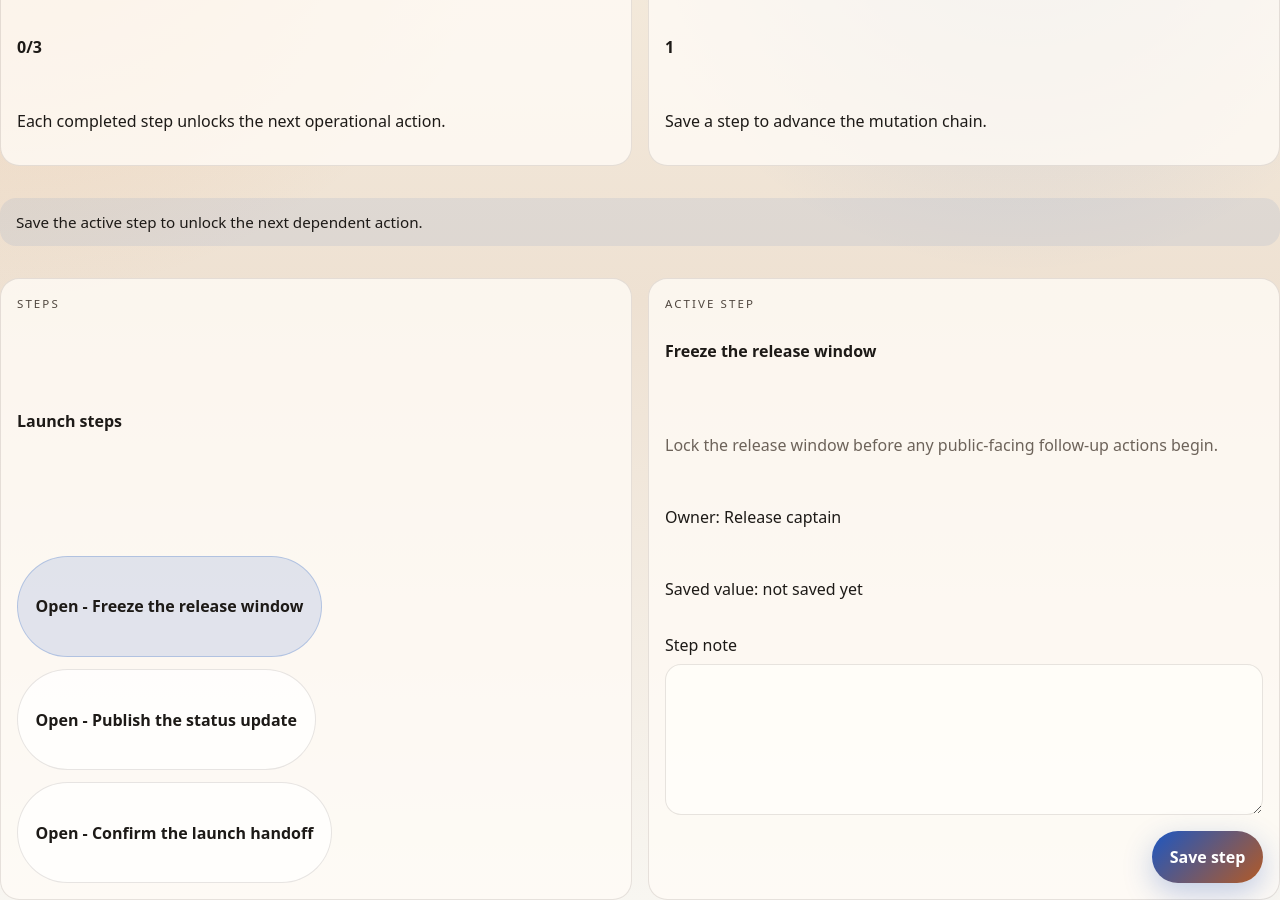
Test: release launch multi-step workflow › saves the first step and unlocks the second step
(page scrolled)
Check: the button "Open - Publish the status update" is disabled, box [17, 669, 316, 770]
In the text box labelled "Step note": (964, 739) [665, 664, 1263, 814], type "Freeze the release window and confirm the on-call rotation is aligned."
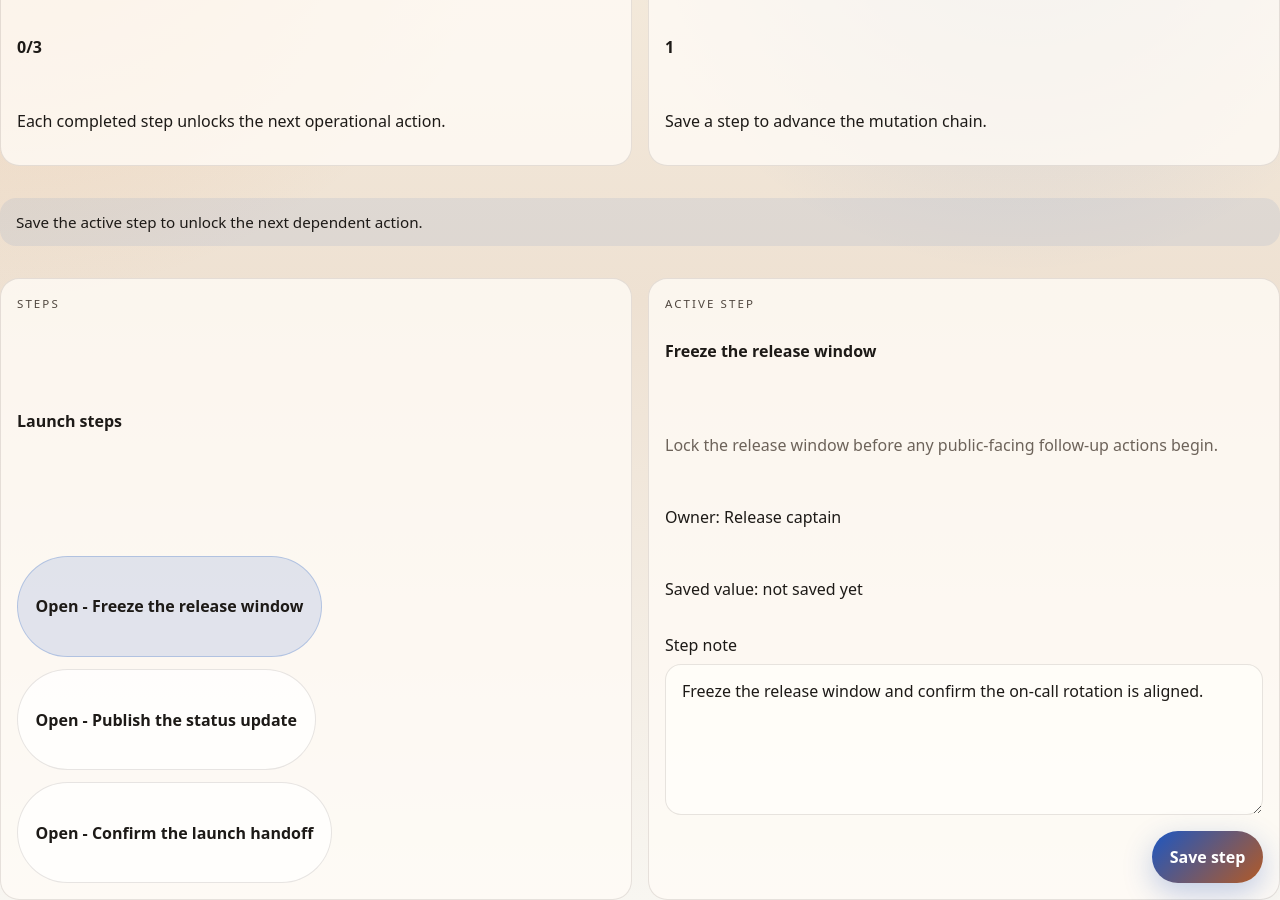
Click the button "Save step": (1208, 857) [1152, 830, 1263, 883]
Wait 320 ms
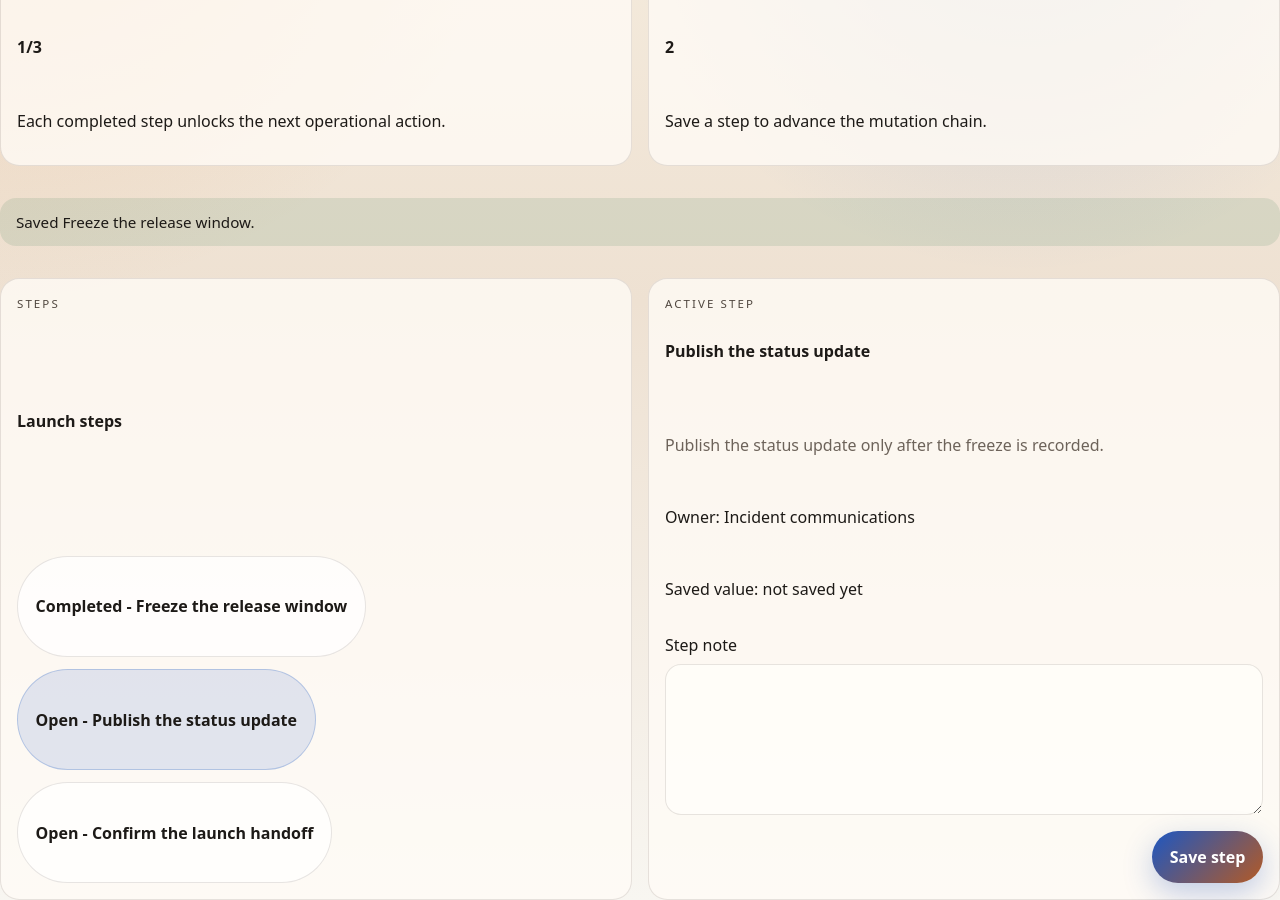
Check: the text "Saved Freeze the release window." is shown, box [0, 198, 1279, 246]
Check: the button "Open - Publish the status update" is enabled, box [17, 669, 316, 770]
Check: the heading "Publish the status update" is shown, box [665, 340, 870, 362]
